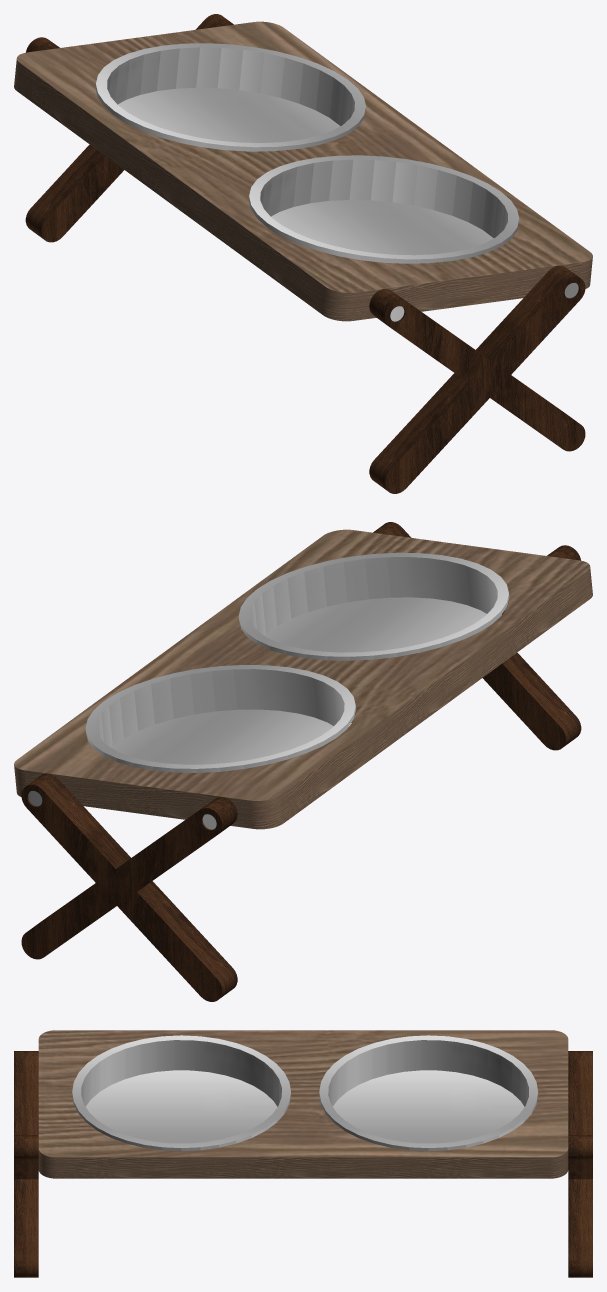
File: comedero-mascota.glb
3 renders of one model, top to bottom at view 1: azimuth 30°, elevation 25°; view 2: azimuth 150°, elevation 25°; view 3: azimuth 270°, elevation 25°, orthographic. The views are drawn at different scales.
Size of the model in its own units: 0.1407 by 0.1014 by 0.328.
4 materials, 4 textured.
